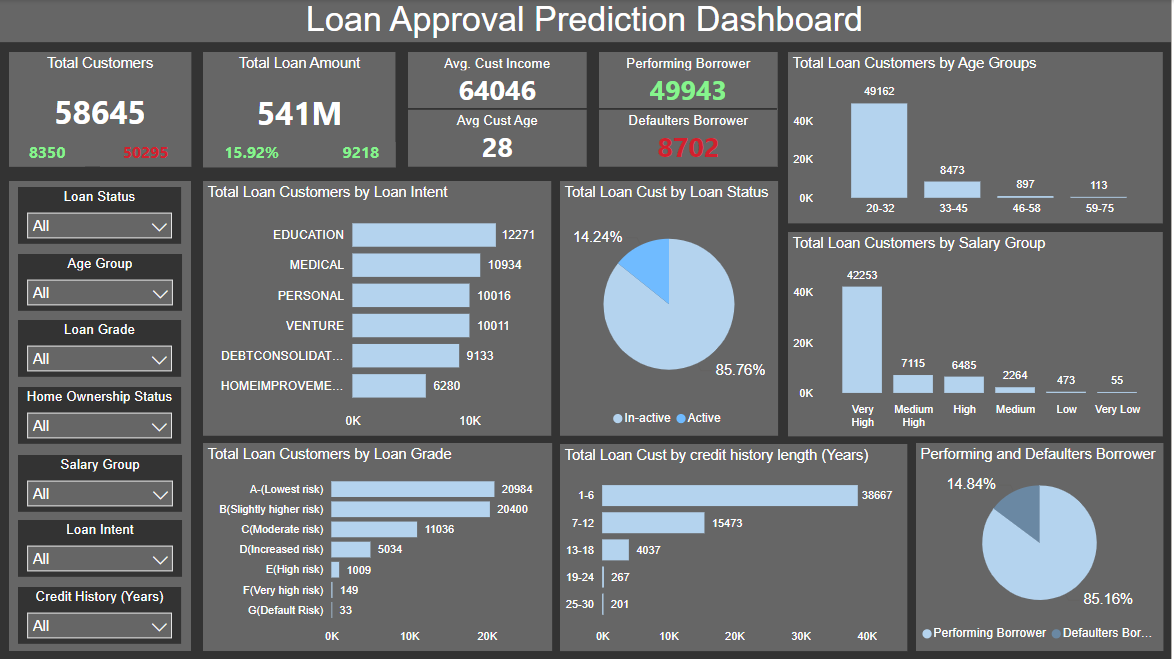

What the dashboard file says about the page in this screenshot:
{"tool":"powerbi","page":{"name":"Page 1","canvas":[1280,720],"ordinal":0},"visuals":[{"type":"card","title":"Total Loan Amount","fields":{"Values":["MeasursesTable.Total Loan Amount"]},"box":[223.7,56.8,210.3,126.5],"z":0,"group":"g2"},{"type":"shape","box":[12,197.5,198.6,512.9],"z":0},{"type":"card","title":"Total Customers","fields":{"Values":["MeasursesTable.Total Loan Customers"]},"box":[11.6,56.8,198.6,125.5],"z":1000,"group":"g1"},{"type":"card","title":"Avg Cust Age","fields":{"Values":["Avg(train.person_age)"]},"box":[447.7,118.7,194.8,63.2],"z":1000},{"type":"card","title":"Avg. Cust Income","fields":{"Values":["Avg(train.person_income)"]},"box":[447.3,56.8,194.8,63.2],"z":2000},{"type":"card","title":"Avg Loan Amount","fields":{"Values":["MeasursesTable.Avg Loan Amount"]},"box":[357.9,154.9,76.1,27.1],"z":2000,"group":"g2"},{"type":"card","title":"Performing Borrower","fields":{"Values":["MeasursesTable.Performing Borrower"]},"box":[655.5,56.8,194.8,63.2],"z":3000},{"type":"card","title":"Avg Int Rate","fields":{"Values":["MeasursesTable.Avg Int. Rate"]},"box":[223.7,154.9,105.8,27.1],"z":3000,"group":"g2"},{"type":"card","title":"Defaulters Borrower","fields":{"Values":["MeasursesTable.Defaulters Borrower"]},"box":[655.5,118.7,194.8,63.2],"z":4000},{"type":"actionButton","title":"Loan Approval Prediction Dashboard","box":[0,0,1280,45.8],"z":5000},{"type":"group","id":"g1","title":"Group 1","box":[11.6,56.8,198.7,126.5],"z":6000},{"type":"card","title":"Active Customers","fields":{"Values":["MeasursesTable.Active Customers"]},"box":[11.6,153.9,82.9,28.4],"z":6000,"group":"g1"},{"type":"group","id":"g2","title":"Group 2","box":[223.7,56.8,210.3,126.5],"z":7000},{"type":"card","title":"In-active Customers","fields":{"Values":["MeasursesTable.In-Active Customers"]},"box":[111,154.4,99.4,28.4],"z":7000,"group":"g1"},{"type":"shape","box":[447.7,112.3,402.6,12.9],"z":8000},{"type":"slicer","title":"Loan Grade","fields":{"Values":["train.loan_grade"]},"box":[21.8,349.6,177.9,62.2],"z":9000},{"type":"slicer","title":"Credit History (Years)","fields":{"Values":["train.credit history length"]},"box":[21.8,640.5,177.9,62.2],"z":10000},{"type":"slicer","title":"Loan Status","fields":{"Values":["train.loan_status"]},"box":[21.8,204.1,177.9,62.2],"z":11000},{"type":"slicer","title":"Loan Intent","fields":{"Values":["train.loan_intent"]},"box":[21.8,567.8,179,62.2],"z":12000},{"type":"slicer","title":"Home Ownership Status","fields":{"Values":["train.person_home_ownership"]},"box":[21.8,422.3,177.9,62.2],"z":13000},{"type":"slicer","title":"Salary Group","fields":{"Values":["train.Salary Group"]},"box":[21.9,496.8,179.4,61.9],"z":13002},{"type":"slicer","title":"Age Group","fields":{"Values":["train.person_age (groups)"]},"box":[21.8,276.8,179,62.2],"z":13003},{"type":"columnChart","fields":{"Category":["train.Salary Group"],"Y":["MeasursesTable.Total Loan Customers"]},"box":[862.1,253.2,409.2,222.6],"z":13004},{"type":"columnChart","title":"Total Loan Customers by Age Groups","fields":{"Category":["train.person_age (groups)"],"Y":["MeasursesTable.Total Loan Customers"]},"box":[861.9,56.8,409,187.1],"z":13005},{"type":"barChart","title":"Total Loan Customers by Loan Intent","fields":{"Category":["train.loan_intent"],"Y":["MeasursesTable.Total Loan Customers"]},"box":[223.7,197.5,379.7,278.3],"z":13006},{"type":"barChart","title":"Total Loan Customers by Loan Grade","fields":{"Category":["train.loan_grade"],"Y":["MeasursesTable.Total Loan Customers"]},"box":[223.7,483.4,380.8,227],"z":13007},{"type":"pieChart","title":"Total Loan Cust by Loan Status","fields":{"Category":["train.loan_status"],"Y":["MeasursesTable.Total Loan Customers"]},"box":[613.3,197.5,237.9,278.3],"z":13008},{"type":"barChart","title":"Total Loan Cust by credit history length (Years)","fields":{"Category":["train.credit history length (Years)"],"Y":["MeasursesTable.Total Loan Customers"]},"box":[613.3,484.5,378.7,225.9],"z":13009},{"type":"pieChart","title":"Performing and Defaulters Borrower","fields":{"Y":["MeasursesTable.Performing Borrower","MeasursesTable.Defaulters Borrower"]},"box":[1001.7,483.4,269.5,227],"z":13010}]}

Visuals, with their boxes in screenshot pixels (x1, y1, x2, y2), scaled from the page's 1280x720 canvas onto the 1174x659 screenshot:
"Total Loan Amount" card: 205,52,398,168
shape: 11,181,193,650
"Total Customers" card: 11,52,193,167
"Avg Cust Age" card: 411,109,589,166
"Avg. Cust Income" card: 410,52,589,110
"Avg Loan Amount" card: 328,142,398,167
"Performing Borrower" card: 601,52,780,110
"Avg Int Rate" card: 205,142,302,167
"Defaulters Borrower" card: 601,109,780,166
"Loan Approval Prediction Dashboard" actionButton: 0,0,1173,42
"Group 1" group: 11,52,193,168
"Active Customers" card: 11,141,87,167
"Group 2" group: 205,52,398,168
"In-active Customers" card: 102,141,193,167
shape: 411,103,780,115
"Loan Grade" slicer: 20,320,183,377
"Credit History (Years)" slicer: 20,586,183,643
"Loan Status" slicer: 20,187,183,244
"Loan Intent" slicer: 20,520,184,577
"Home Ownership Status" slicer: 20,387,183,443
"Salary Group" slicer: 20,455,185,511
"Age Group" slicer: 20,253,184,310
columnChart - train.Salary Group x MeasursesTable.Total Loan Customers: 791,232,1166,435
"Total Loan Customers by Age Groups" columnChart: 791,52,1166,223
"Total Loan Customers by Loan Intent" barChart: 205,181,553,435
"Total Loan Customers by Loan Grade" barChart: 205,442,554,650
"Total Loan Cust by Loan Status" pieChart: 563,181,781,435
"Total Loan Cust by credit history length (Years)" barChart: 563,443,910,650
"Performing and Defaulters Borrower" pieChart: 919,442,1166,650
